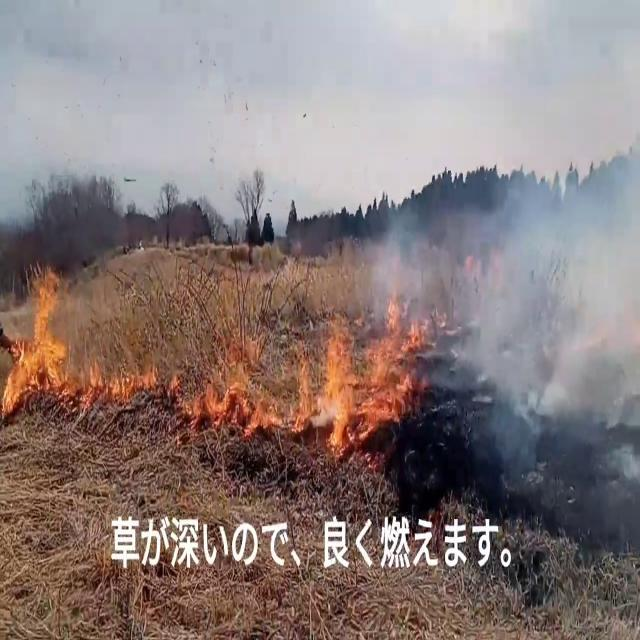Fire: (298, 282, 427, 456), (1, 266, 77, 408), (87, 348, 224, 424), (223, 364, 293, 430)
Smoke: (370, 76, 640, 450)
